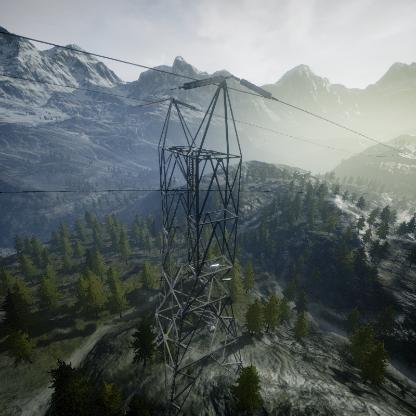tower: (138, 70, 280, 411)
